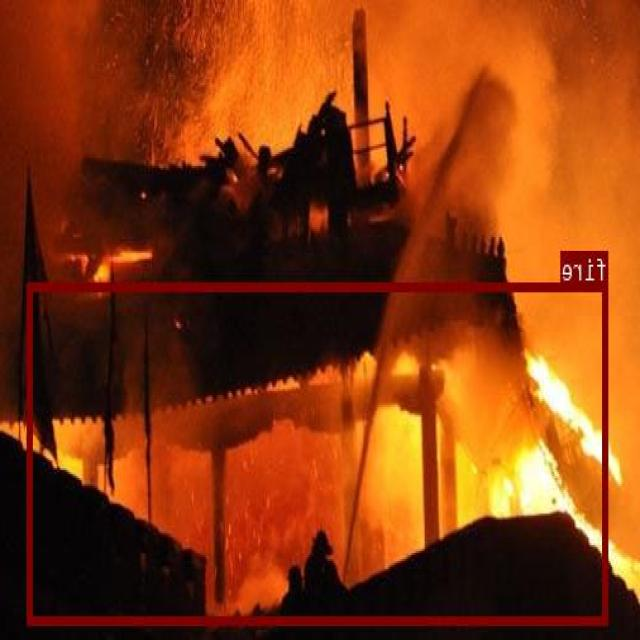fire: (28, 281, 610, 623)
